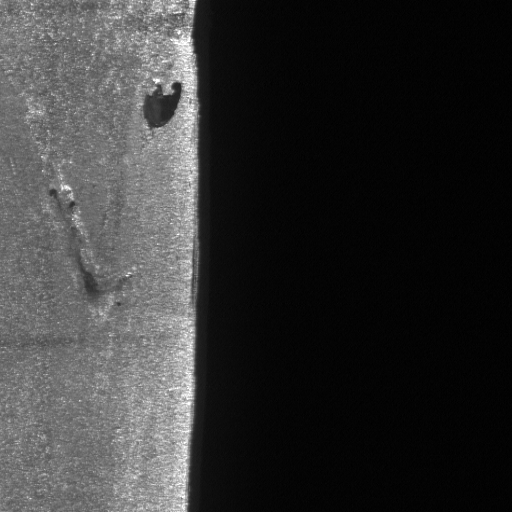aokeng: (51, 182, 105, 305), (139, 79, 184, 131)
